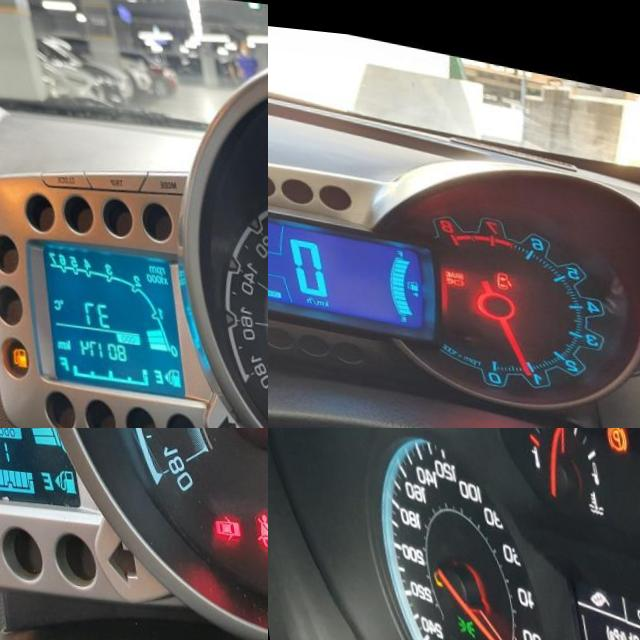Doors: (488, 260, 508, 280)
Low fuel level: (1, 343, 17, 365)
SideLamp: (449, 609, 469, 634)
